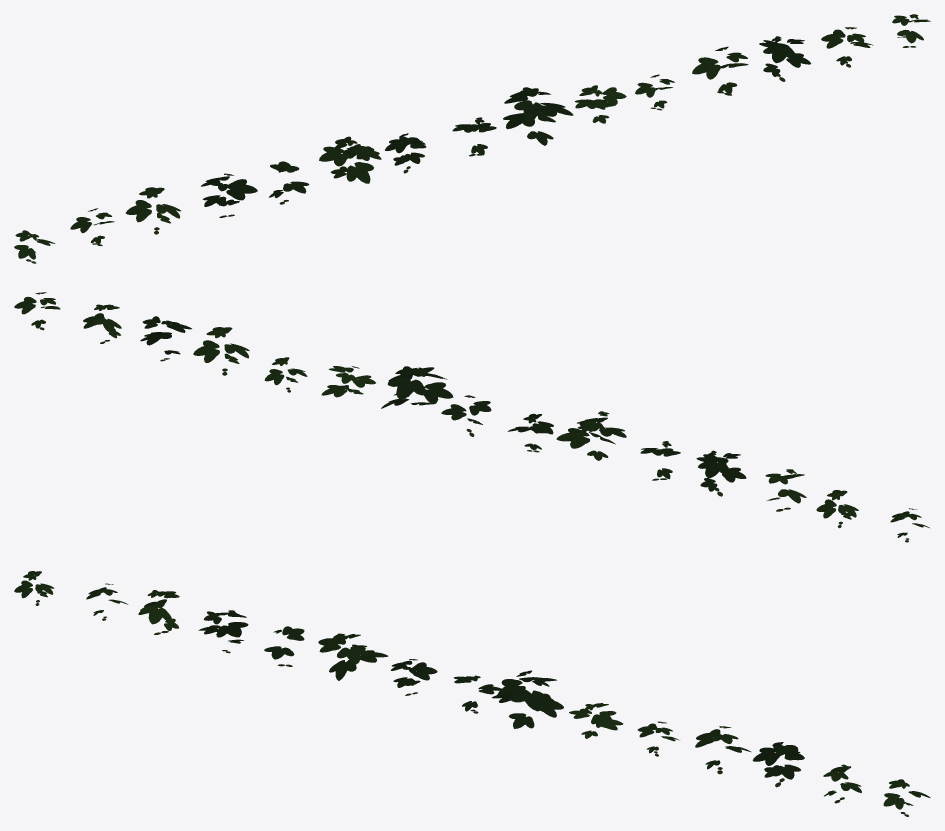
File: ROW_19_SEG4_foliage.dae
3 renders of one model, top to bottom at view 1: azimuth 30°, elevation 25°; view 2: azimuth 150°, elevation 25°; view 3: azimuth 330°, elevation 25°, orthographic.
Parts seen in each view (by area): view 1: ROW_19_SEG4_foliage; view 2: ROW_19_SEG4_foliage; view 3: ROW_19_SEG4_foliage.
Part boxes in pixels (bbox=[...]): ROW_19_SEG4_foliage: bbox=[14, 14, 930, 263]; ROW_19_SEG4_foliage: bbox=[14, 292, 929, 542]; ROW_19_SEG4_foliage: bbox=[14, 571, 930, 816].
Size of the model in its own units: 4.47 by 0.3166 by 0.25.
